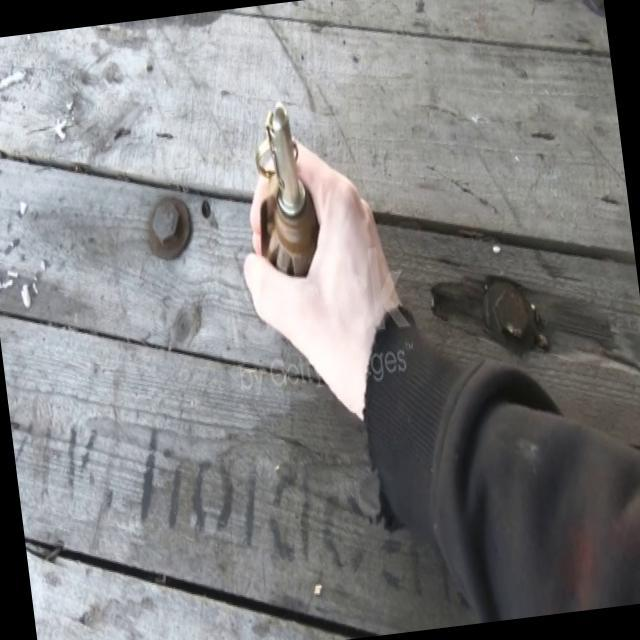grenade: (245, 88, 327, 280)
